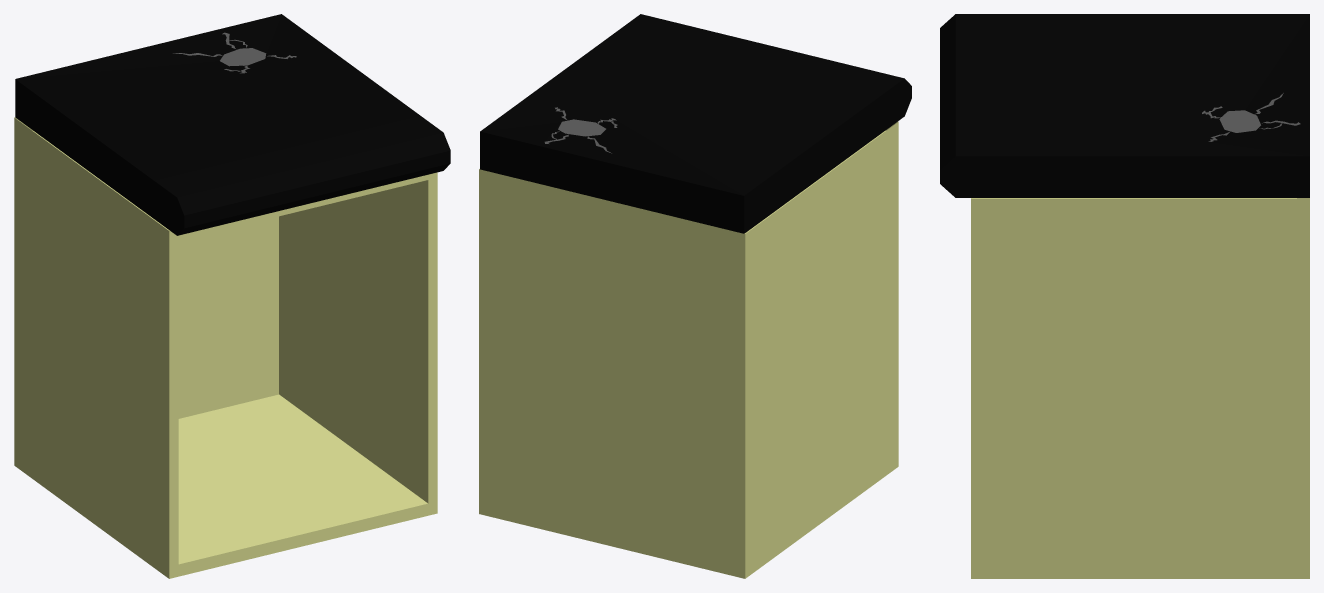
The model's file is EnzimeraGolpeada.fbx.
3 renders of one model, left to right at view 1: azimuth 30°, elevation 25°; view 2: azimuth 150°, elevation 25°; view 3: azimuth 270°, elevation 25°, orthographic. The views are drawn at different scales.
Parts seen in each view (by area): view 1: EnzimeraGolpeada; view 2: EnzimeraGolpeada; view 3: EnzimeraGolpeada.
Part boxes in pixels (x1=…): EnzimeraGolpeada: x1=14, y1=14, x2=450, y2=578; EnzimeraGolpeada: x1=479, y1=14, x2=911, y2=578; EnzimeraGolpeada: x1=940, y1=14, x2=1309, y2=578.
Bounding box in the file's own units: 200 × 275 × 218.
